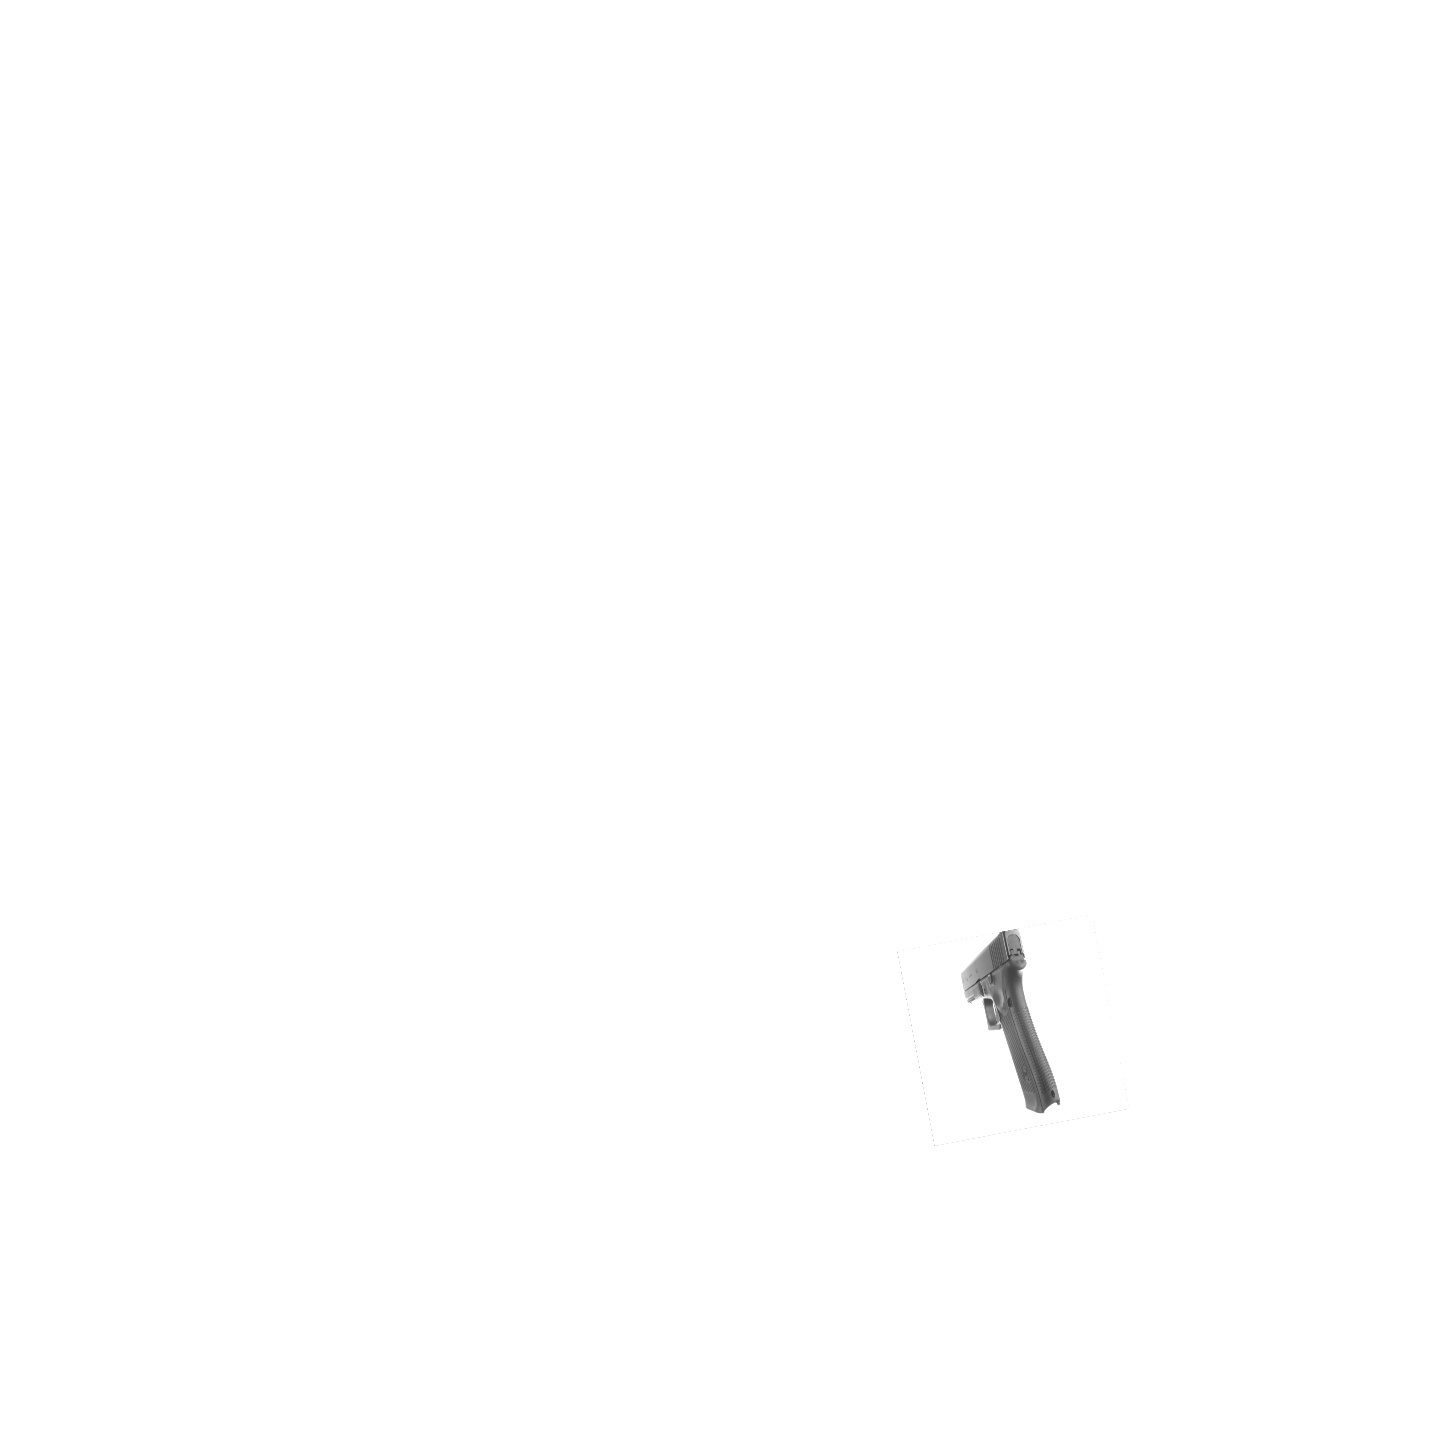gun: (960, 928, 1061, 1114)
